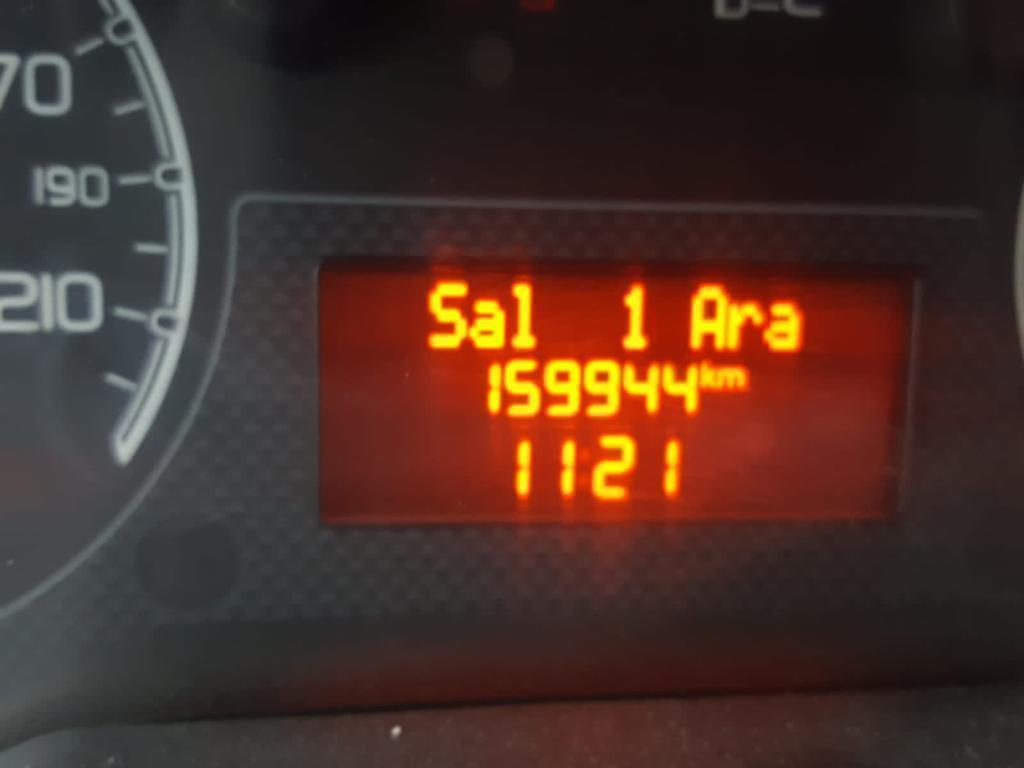1: (619, 280, 649, 352), (515, 437, 533, 502), (664, 434, 680, 498), (561, 436, 575, 503), (487, 358, 501, 414)
2: (593, 431, 637, 504)
4: (622, 359, 661, 413), (662, 359, 698, 415)
5: (504, 356, 541, 418)
9: (585, 357, 620, 417), (545, 357, 578, 417)
X: (428, 279, 467, 350), (691, 280, 726, 351), (508, 279, 537, 351), (764, 298, 802, 352), (468, 295, 505, 349), (727, 298, 763, 351), (717, 364, 752, 390), (699, 358, 716, 391)
odometer: (309, 246, 922, 531)
